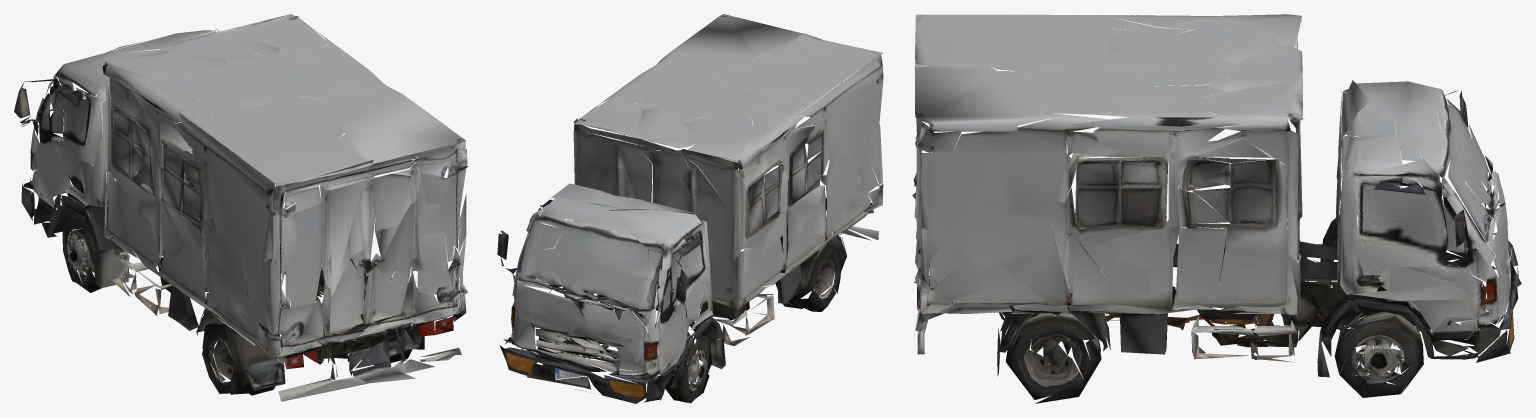
File: box_truck.glb
3 views of the same model, side by side, from view 1: azimuth 30°, elevation 25°; view 2: azimuth 150°, elevation 25°; view 3: azimuth 270°, elevation 25° (orthographic). The views are drawn at different scales.
Parts seen in each view (by area): view 1: tripo_node_23611cae-3b7a-40a1-b335-0a198bcd373e; view 2: tripo_node_23611cae-3b7a-40a1-b335-0a198bcd373e; view 3: tripo_node_23611cae-3b7a-40a1-b335-0a198bcd373e.
Part boxes in pixels (x1,y1,x2,y2): tripo_node_23611cae-3b7a-40a1-b335-0a198bcd373e: (14, 14, 468, 401); tripo_node_23611cae-3b7a-40a1-b335-0a198bcd373e: (497, 14, 883, 403); tripo_node_23611cae-3b7a-40a1-b335-0a198bcd373e: (912, 14, 1521, 403).
Size of the model in its own units: 2.88 by 3.26 by 6.11.
Materials: 1 (1 with a texture image).
